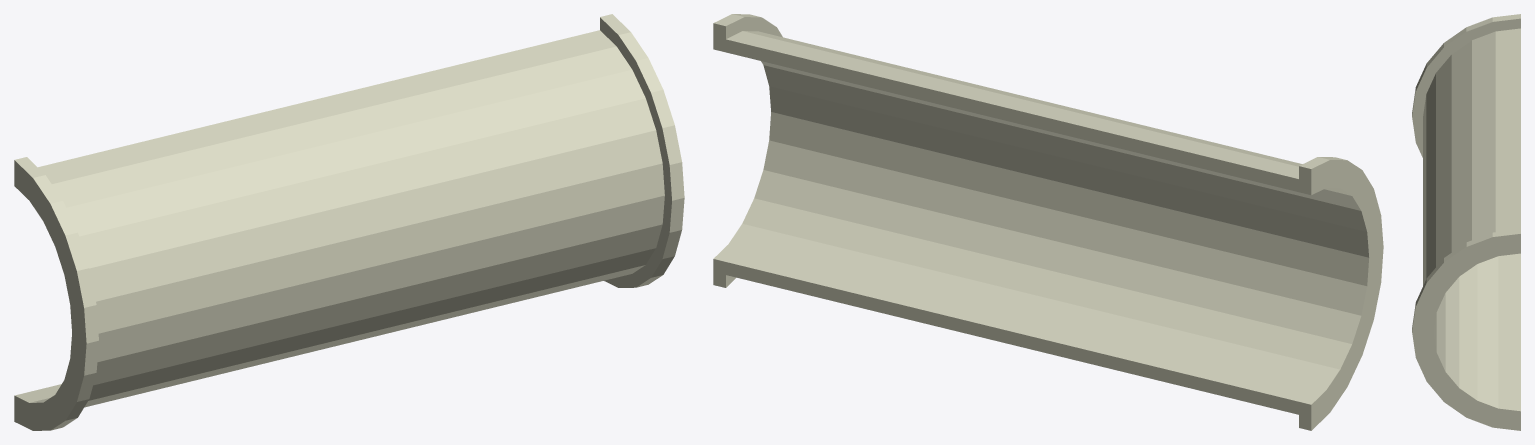
File: section_265.obj
The picture shows the model from 3 angles, left to right: view 1: azimuth 30°, elevation 25°; view 2: azimuth 150°, elevation 25°; view 3: azimuth 270°, elevation 25°; orthographic projection. The views are drawn at different scales.
Bounding box in the file's own units: 47.8 × 20 × 10.
